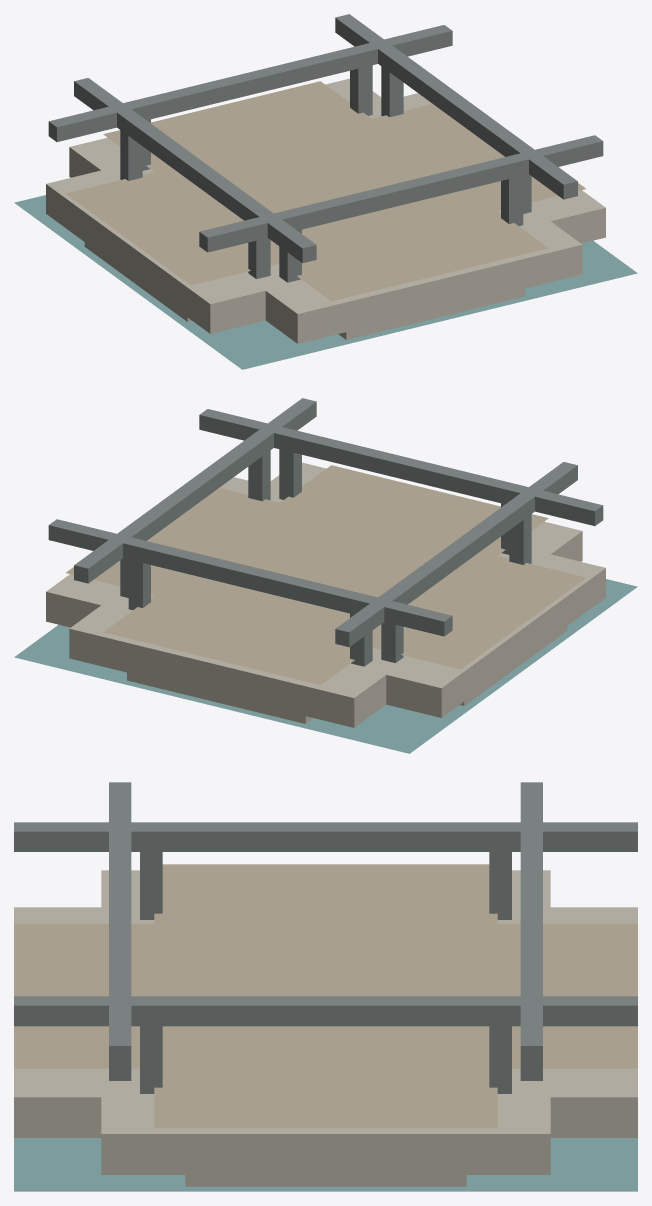
3 renders of one model, top to bottom at view 1: azimuth 30°, elevation 25°; view 2: azimuth 150°, elevation 25°; view 3: azimuth 270°, elevation 25°, orthographic. The views are drawn at different scales.
Visible parts, largest first — view 1: Near; view 2: Near; view 3: Near.
Part boxes in pixels (bbox=[...]): Near: bbox=[14, 14, 637, 369]; Near: bbox=[14, 398, 637, 753]; Near: bbox=[14, 782, 637, 1191].
Size of the model in its own units: 1 by 0.258 by 1.
